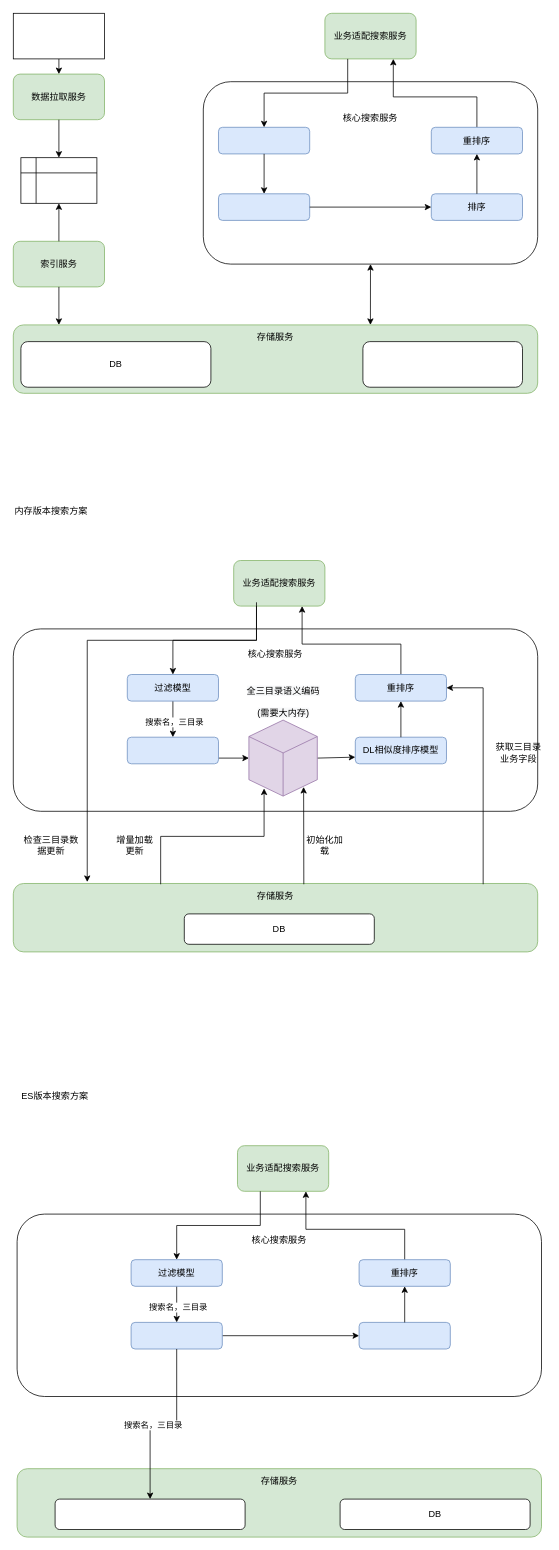
The diagram is 559 pixels wide and 1550 high, and some of its shapes have lost their labels. The shapes that lost their labels are listed below. From the top down, each one's centre as x and y in pixels, then its label:
At (58,36): "数据源".
At (264,140): "过滤".
At (58,180): "本地文件".
At (264,206): "召回".
At (442,364): "SE(search engine)".
At (172,750): "DL编码模型".
At (176,1335): "召回候选".
At (404,1335): "DL编码模型 DL相似度排序模型".
At (149,1514): "ES".
